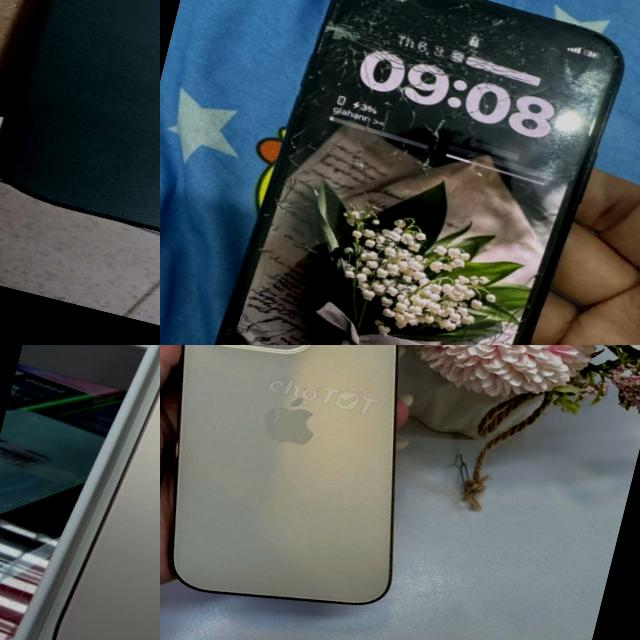gen_12_13: (196, 0, 634, 345), (0, 0, 160, 326)
gen_14: (160, 345, 475, 640)
gen_16: (37, 345, 160, 640)
